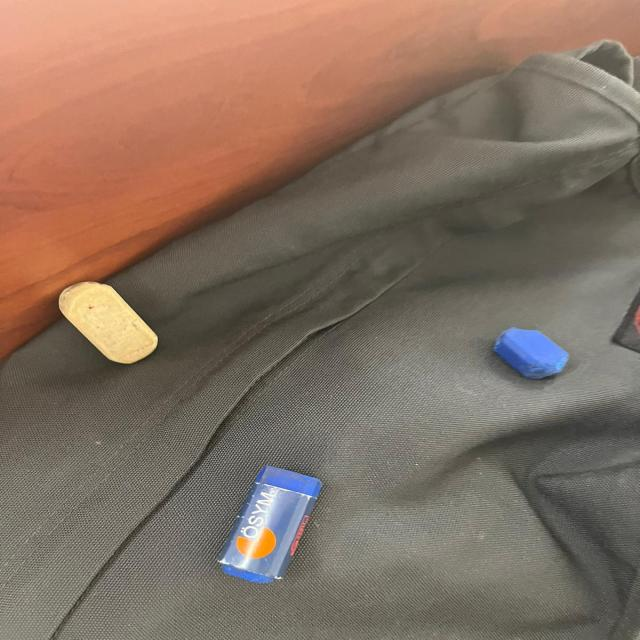eraser: (216, 453, 334, 595), (49, 277, 172, 366), (484, 318, 567, 386)
